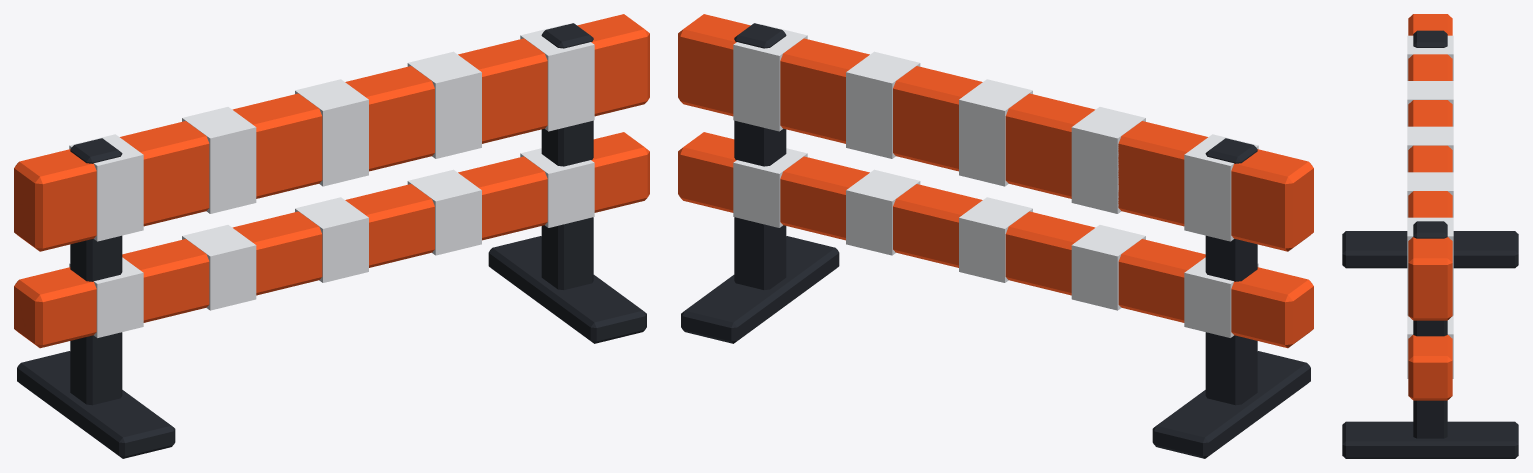
The model's file is City_Obs_Barrier.fbx.
3 renders of one model, left to right at view 1: azimuth 30°, elevation 25°; view 2: azimuth 150°, elevation 25°; view 3: azimuth 270°, elevation 25°, orthographic. The views are drawn at different scales.
Parts seen in each view (by area): view 1: City_Obs_Barrier; view 2: City_Obs_Barrier; view 3: City_Obs_Barrier.
Part boxes in pixels (<box>): City_Obs_Barrier: <box>14,14,649,458</box>; City_Obs_Barrier: <box>678,14,1313,458</box>; City_Obs_Barrier: <box>1342,14,1518,458</box>.
Bounding box in the file's own units: 2.4 × 1 × 0.72.
